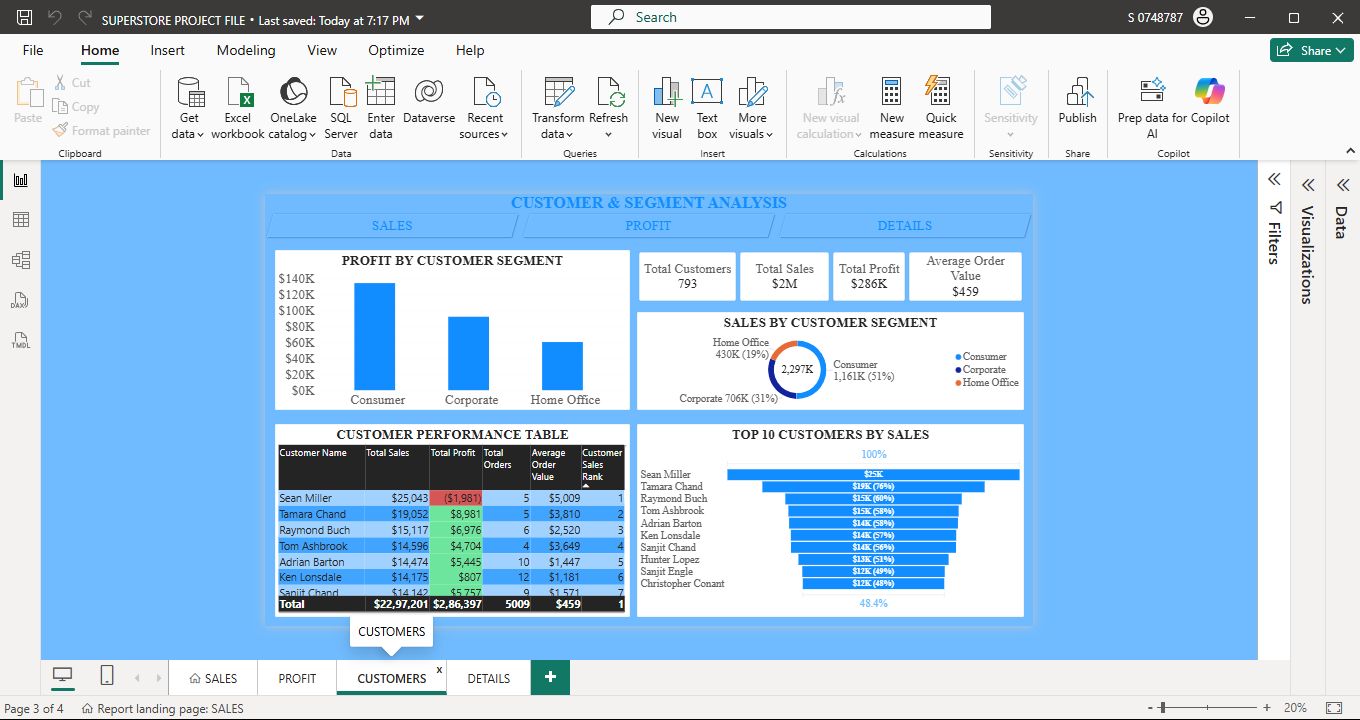

The dashboard page shown, as its layout file describes it:
{"tool":"powerbi","page":{"name":"CUSTOMERS","canvas":[3840,2160],"ordinal":2},"visuals":[{"type":"donutChart","title":"SALES BY CUSTOMER SEGMENT","fields":{"Category":["Sample - Superstore.Segment"],"Y":["Date.Total Sales"]},"box":[1860,590,1935,490],"z":0},{"type":"clusteredColumnChart","title":"PROFIT BY CUSTOMER SEGMENT","fields":{"Category":["Sample - Superstore.Segment"],"Y":["Date.Total Profit"]},"box":[50,280,1775,800],"z":1000},{"type":"tableEx","title":"CUSTOMER PERFORMANCE TABLE","fields":{"Values":["Sample - Superstore.Customer Name","Date.Total Sales","Date.Total Profit","Date.Total Orders","Date.Average Order Value","Date.Customer Sales Rank"]},"box":[50,1150,1775,965],"z":2000},{"type":"textbox","box":[0,0,3840,95],"z":3000},{"type":"cardVisual","fields":{"Data":["Date.Total Customers"]},"box":[1860,280,505,265],"z":4000},{"type":"cardVisual","fields":{"Data":["Date.Total Sales"]},"box":[2365,280,465,265],"z":5000},{"type":"cardVisual","fields":{"Data":["Date.Total Profit"]},"box":[2830,280,380,265],"z":6000},{"type":"cardVisual","fields":{"Data":["Date.Average Order Value"]},"box":[3210,280,585,265],"z":7000},{"type":"funnel","title":"TOP 10 CUSTOMERS BY SALES","fields":{"Category":["Sample - Superstore.Customer Name"],"Y":["Date.Total Sales"]},"box":[1860,1150,1935,965],"z":8000},{"type":"pageNavigator","box":[0,90,3840,135],"z":9000}]}

Visuals, with their boxes on the page's 3840x2160 design canvas (x1, y1, x2, y2). These are canvas units, not pixel positions in the 1360x720 screenshot, which may show the page scaled, cropped or inside an application window:
"SALES BY CUSTOMER SEGMENT" donutChart: Rect(1860, 590, 3795, 1080)
"PROFIT BY CUSTOMER SEGMENT" clusteredColumnChart: Rect(50, 280, 1825, 1080)
"CUSTOMER PERFORMANCE TABLE" tableEx: Rect(50, 1150, 1825, 2115)
textbox: Rect(0, 0, 3840, 95)
cardVisual - Date.Total Customers: Rect(1860, 280, 2365, 545)
cardVisual - Date.Total Sales: Rect(2365, 280, 2830, 545)
cardVisual - Date.Total Profit: Rect(2830, 280, 3210, 545)
cardVisual - Date.Average Order Value: Rect(3210, 280, 3795, 545)
"TOP 10 CUSTOMERS BY SALES" funnel: Rect(1860, 1150, 3795, 2115)
pageNavigator: Rect(0, 90, 3840, 225)
